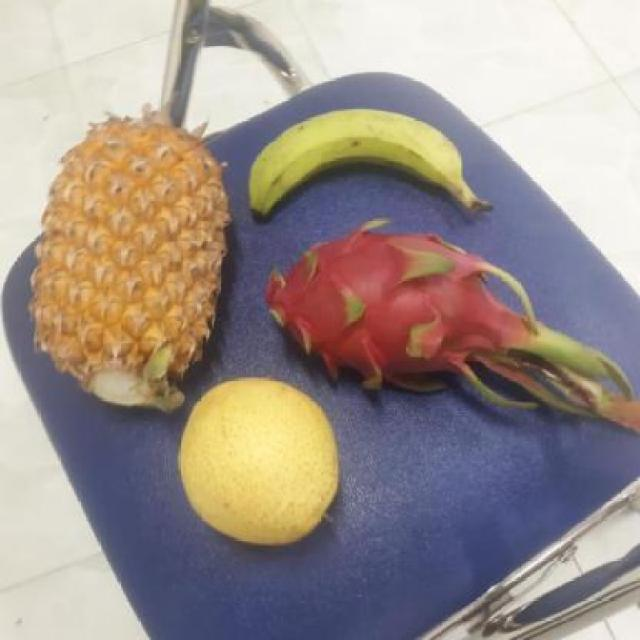banana: (239, 109, 467, 225)
dragon fruit: (249, 222, 526, 386)
pear: (171, 381, 340, 548)
pineapple: (33, 115, 225, 412)
